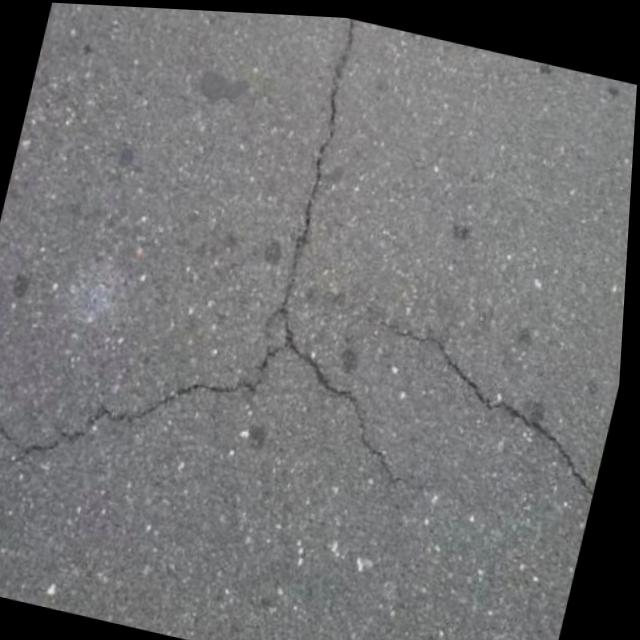Crack: (362, 314, 626, 496), (271, 12, 365, 334), (112, 311, 289, 454), (276, 342, 423, 472), (34, 394, 112, 467), (0, 387, 44, 459)
